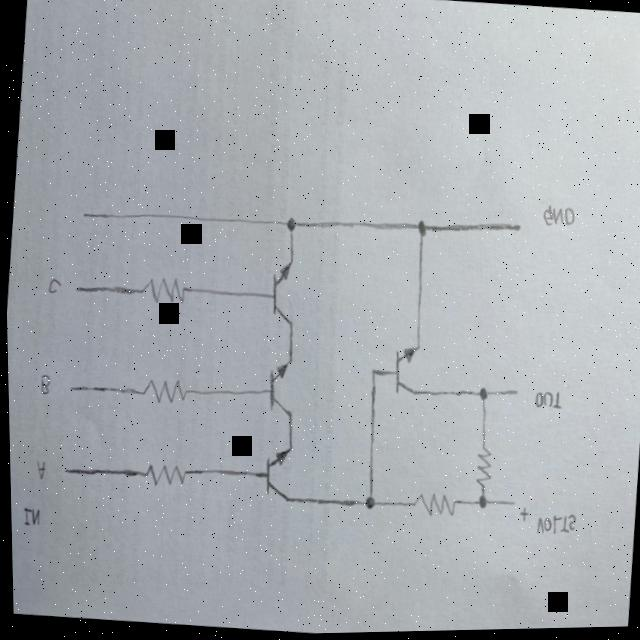junction: (411, 214, 430, 247), (280, 213, 300, 239), (470, 495, 489, 520), (358, 494, 376, 519), (471, 386, 490, 409)
resistor: (402, 487, 460, 531), (134, 373, 193, 416), (134, 455, 188, 500), (133, 271, 190, 313), (467, 439, 498, 493)
terminal: (511, 223, 523, 239), (507, 389, 520, 402), (65, 383, 74, 396), (71, 283, 80, 296), (78, 209, 87, 222), (504, 500, 514, 511), (58, 465, 67, 477)
text: (536, 198, 578, 241), (531, 510, 576, 546), (527, 384, 565, 426), (13, 500, 45, 539), (27, 449, 53, 488), (41, 268, 63, 304), (31, 372, 54, 402), (512, 502, 530, 531)
transistor: (260, 254, 305, 334), (256, 439, 302, 513), (383, 336, 433, 404), (259, 355, 302, 424)
